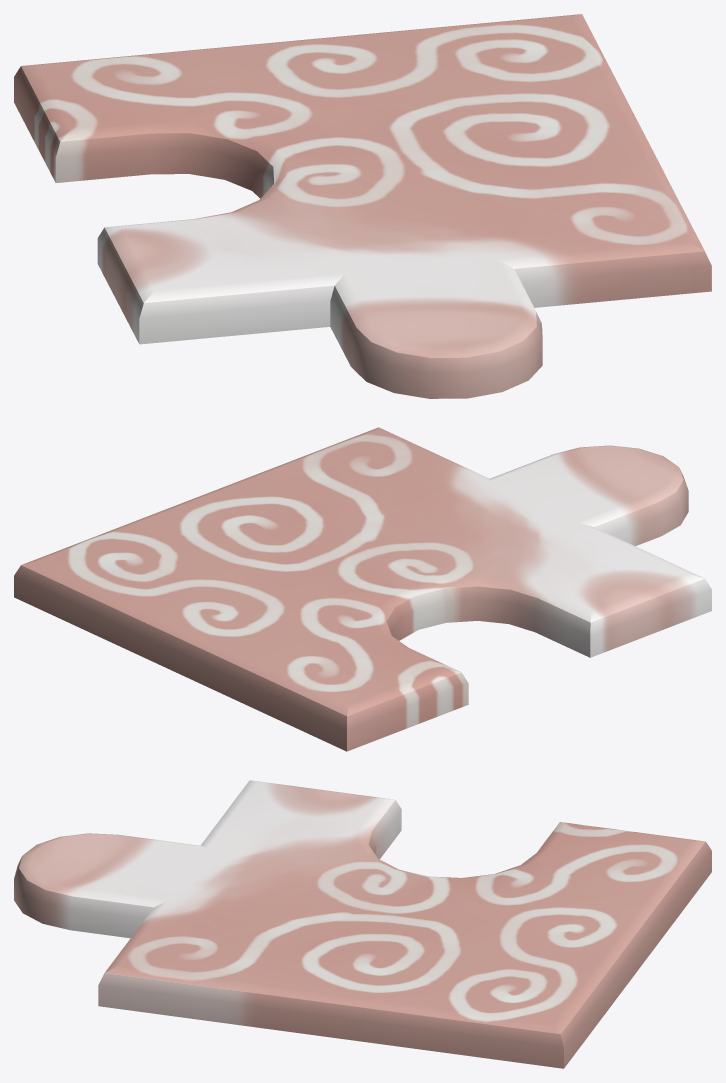
Rendered from PuzzlePiece6.fbx.
The picture shows the model from 3 angles, top to bottom: view 1: azimuth 30°, elevation 25°; view 2: azimuth 150°, elevation 25°; view 3: azimuth 270°, elevation 25°; orthographic projection. The views are drawn at different scales.
Visible parts, largest first — view 1: polySurface6; view 2: polySurface6; view 3: polySurface6.
Part boxes in pixels (bbox=[...]): polySurface6: bbox=[14, 14, 711, 398]; polySurface6: bbox=[14, 427, 711, 751]; polySurface6: bbox=[14, 780, 711, 1068].
Bounding box in the file's own units: 1.26 × 0.0821 × 1.43.
2 materials, 1 textured.
